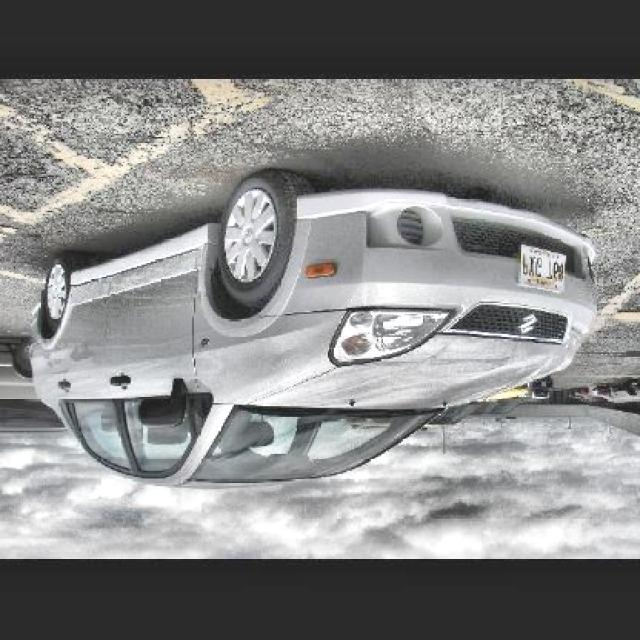silver: (31, 169, 600, 490)
